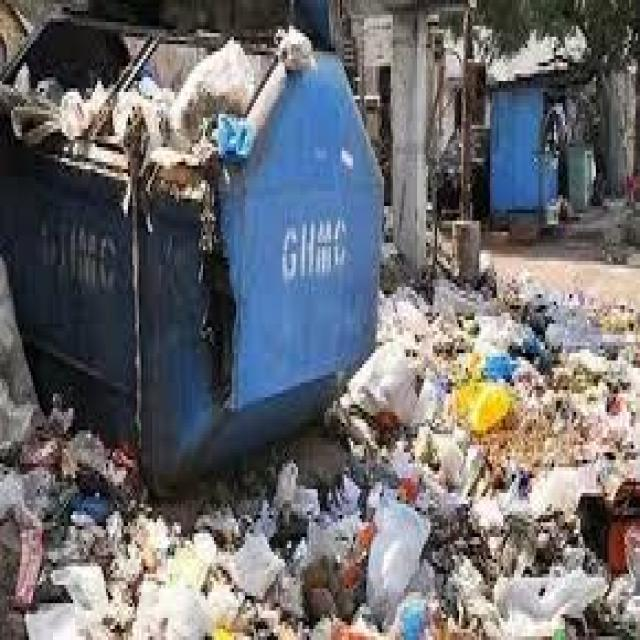garbage: (371, 284, 638, 636), (0, 467, 404, 636), (0, 33, 243, 180), (0, 386, 141, 508), (268, 15, 322, 84)
